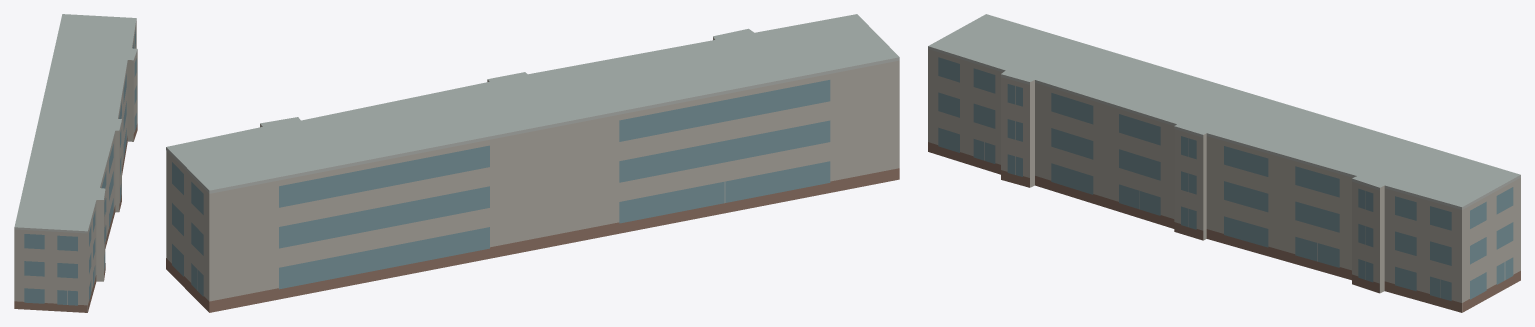
Rendered from survey-upis-32554207.glb.
The picture shows the model from 3 angles, left to right: view 1: azimuth 30°, elevation 25°; view 2: azimuth 150°, elevation 25°; view 3: azimuth 270°, elevation 25°; orthographic projection. The views are drawn at different scales.
Visible parts, largest first — view 1: survey-upis-32554207.tmp; view 2: survey-upis-32554207.tmp; view 3: survey-upis-32554207.tmp.
Part boxes in pixels (x1,y1,x2,y2): survey-upis-32554207.tmp: [14, 14, 137, 312]; survey-upis-32554207.tmp: [166, 14, 899, 312]; survey-upis-32554207.tmp: [928, 14, 1520, 312].
Size of the model in its own units: 35.9 by 9.15 by 46.53.
